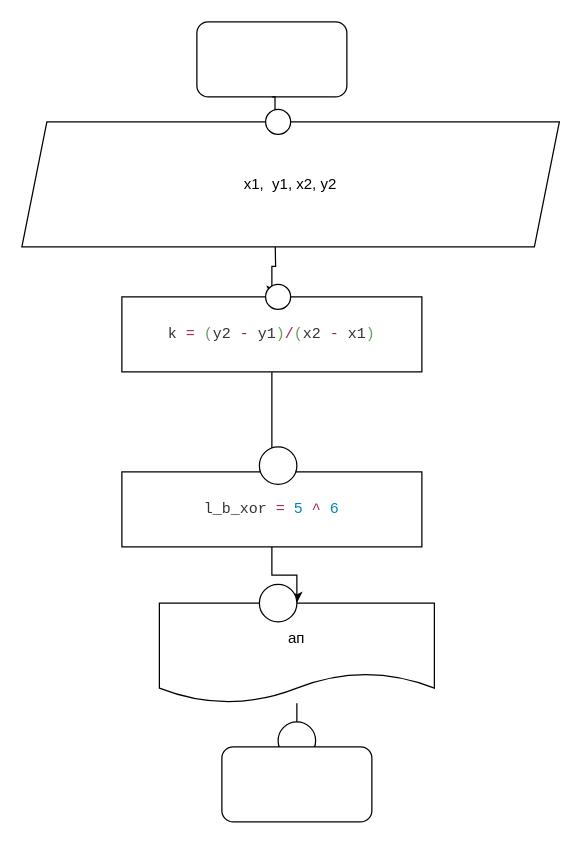
The diagram is 581 pixels wide and 844 high, and some of its shapes have lost their labels. The centre of each missing label's shape, as x and y in pixels:
конец: [296,784]
начало: [271,59]
